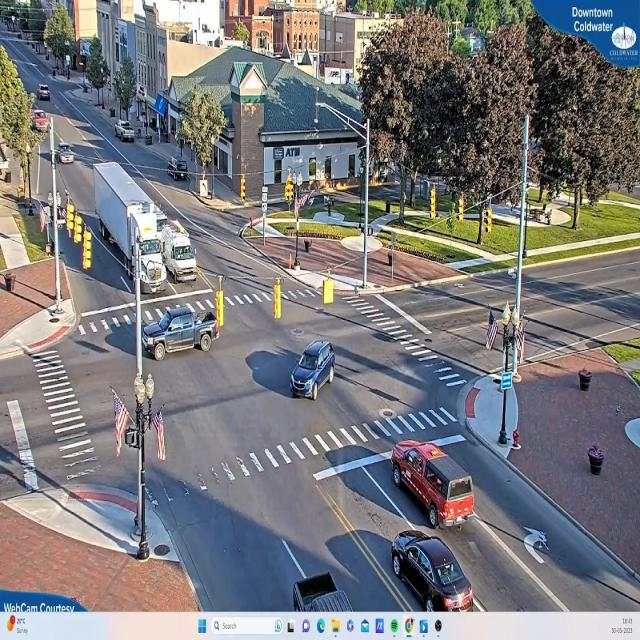car: (391, 438, 477, 530), (390, 530, 479, 612), (136, 304, 218, 360), (290, 341, 336, 399), (291, 572, 351, 614), (117, 120, 138, 142), (39, 86, 52, 101)
truck: (92, 162, 166, 292)
